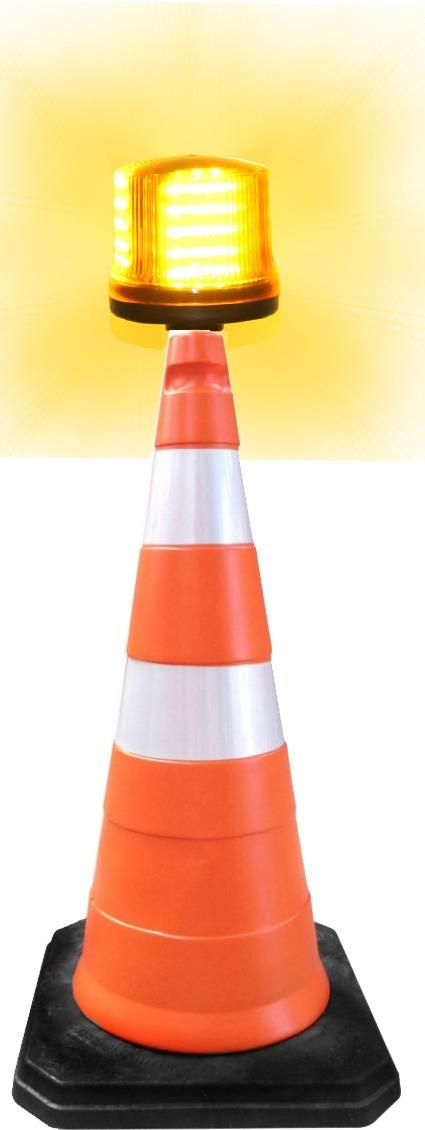traffic_cone: (12, 153, 401, 1128), (70, 325, 332, 1055)
